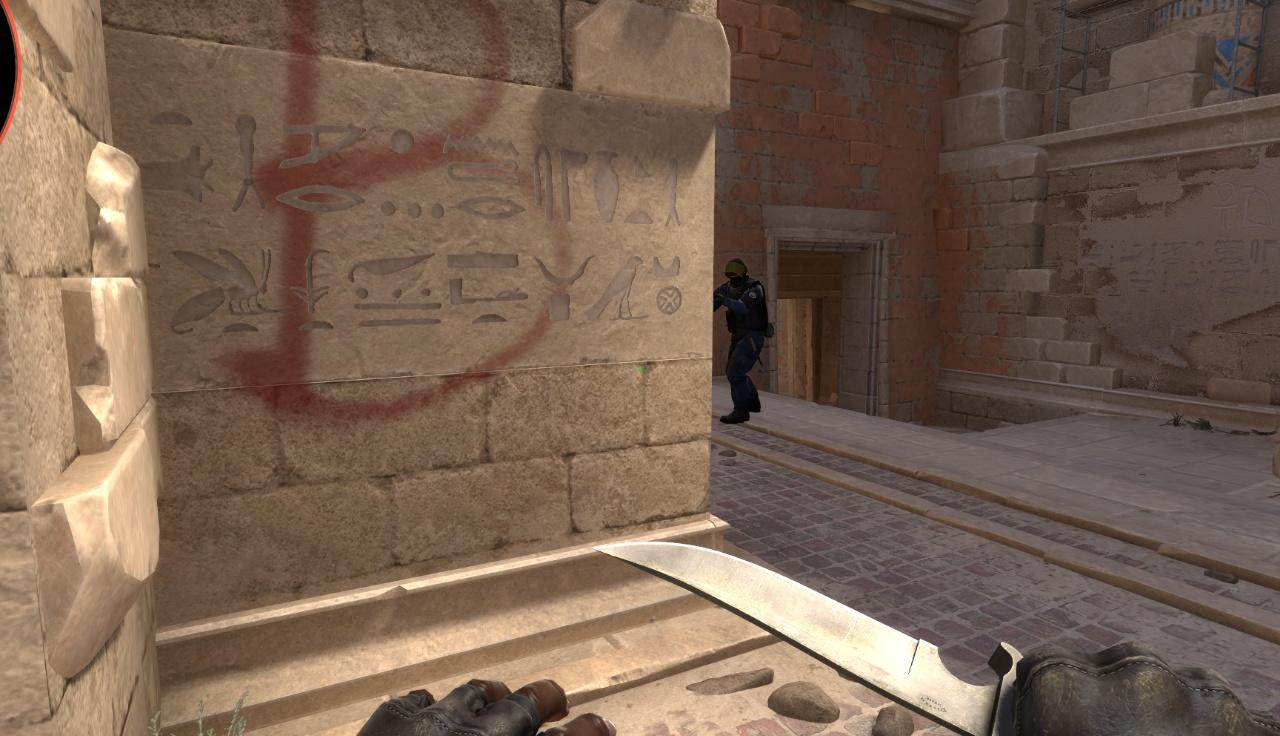ct: (716, 259, 764, 424)
cthead: (725, 258, 746, 282)
